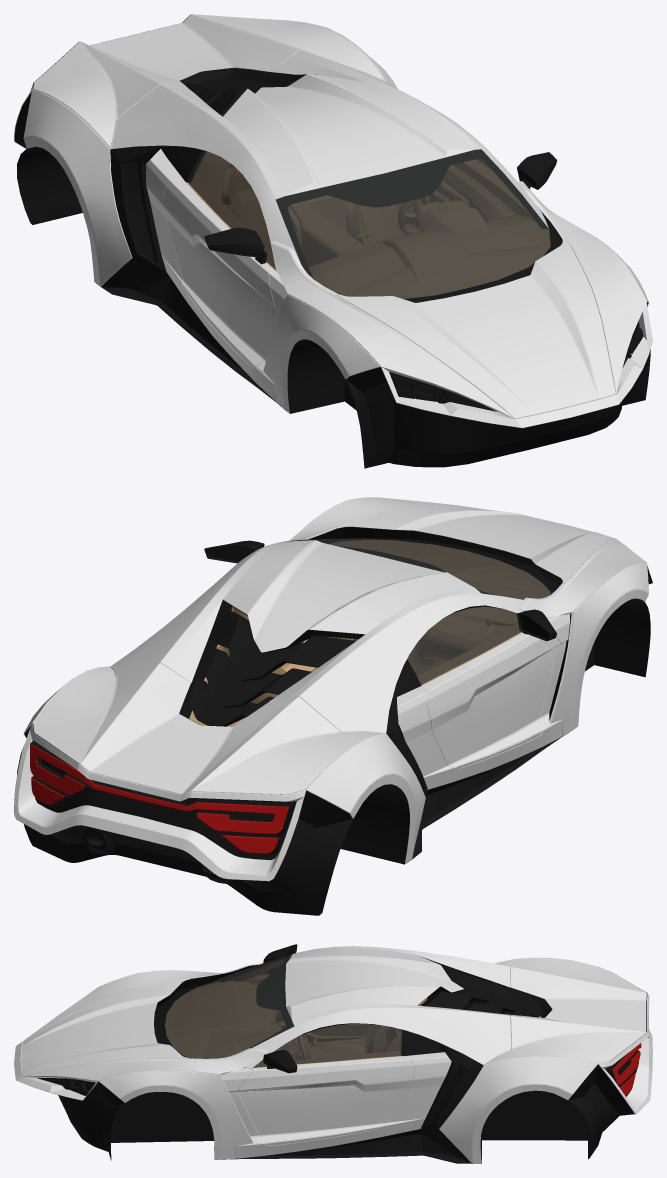
Rendered from DC4_Sport_1_Body.FBX.
The picture shows the model from 3 angles, top to bottom: view 1: azimuth 30°, elevation 25°; view 2: azimuth 150°, elevation 25°; view 3: azimuth 270°, elevation 25°; orthographic projection. The views are drawn at different scales.
Visible parts, largest first — view 1: DC4_Sport_1_Body, DC4_Sport_1_Roof, DC4_Sport_1_Glass_Tesselated_F, DC3_Sport_1_Glass_F, DC4_Sport_1_Hood, DC4_Sport_1_Trunk, DC4_Sport_1_Door_R, DC4_Sport_1_Mudguard_BR, DC4_Sport_1_Mudguard_FR, DC4_Sport_1_Door_L, DC4_Sport_1_Glass_R, DC4_Sport_1_Glass_Tesselated_R (+1 smaller); view 2: DC4_Sport_1_Body, DC4_Sport_1_Trunk, DC4_Sport_1_Roof, DC4_Sport_1_Door_R, DC4_Sport_1_Hood, DC4_Sport_1_Mudguard_BR, DC4_Sport_1_Glass_Tesselated_F, DC3_Sport_1_Glass_F, DC4_Sport_1_Mudguard_FR, DC4_Sport_1_Glass_R, DC4_Sport_1_Glass_Tesselated_R, DC4_Sport_1_Door_L; view 3: DC4_Sport_1_Body, DC4_Sport_1_Roof, DC4_Sport_1_Door_L, DC4_Sport_1_Trunk, DC4_Sport_1_Glass_Tesselated_F, DC3_Sport_1_Glass_F, DC4_Sport_1_Hood, DC4_Sport_1_Mudguard_BL, DC4_Sport_1_Mudguard_FL, DC4_Sport_1_Glass_L, DC4_Sport_1_Glass_Tesselated_L, DC4_Sport_1_Door_R (+1 smaller).
Boxes of the visible parts, x1,y1,x2,y2 form: DC4_Sport_1_Body: [14, 14, 652, 468]; DC4_Sport_1_Roof: [182, 71, 548, 277]; DC4_Sport_1_Glass_Tesselated_F: [276, 149, 550, 298]; DC3_Sport_1_Glass_F: [276, 149, 550, 298]; DC4_Sport_1_Hood: [335, 238, 615, 418]; DC4_Sport_1_Trunk: [33, 14, 384, 148]; DC4_Sport_1_Door_R: [164, 182, 278, 366]; DC4_Sport_1_Mudguard_BR: [23, 89, 132, 286]; DC4_Sport_1_Mudguard_FR: [264, 294, 380, 413]; DC4_Sport_1_Door_L: [423, 152, 557, 221]; DC4_Sport_1_Glass_R: [188, 151, 275, 269]; DC4_Sport_1_Glass_Tesselated_R: [188, 150, 275, 269]; DC4_Sport_1_Body: [14, 497, 652, 915]; DC4_Sport_1_Trunk: [33, 662, 384, 794]; DC4_Sport_1_Roof: [182, 540, 523, 665]; DC4_Sport_1_Door_R: [417, 609, 560, 767]; DC4_Sport_1_Hood: [335, 506, 615, 583]; DC4_Sport_1_Mudguard_BR: [306, 733, 425, 863]; DC4_Sport_1_Glass_Tesselated_F: [287, 538, 550, 599]; DC3_Sport_1_Glass_F: [281, 538, 550, 599]; DC4_Sport_1_Mudguard_FR: [551, 563, 648, 736]; DC4_Sport_1_Glass_R: [407, 606, 521, 684]; DC4_Sport_1_Glass_Tesselated_R: [407, 606, 520, 684]; DC4_Sport_1_Door_L: [204, 540, 264, 650]; DC4_Sport_1_Body: [14, 951, 652, 1163]; DC4_Sport_1_Roof: [221, 946, 463, 1068]; DC4_Sport_1_Door_L: [237, 1050, 414, 1145]; DC4_Sport_1_Trunk: [485, 957, 646, 1064]; DC4_Sport_1_Glass_Tesselated_F: [165, 954, 293, 1058]; DC3_Sport_1_Glass_F: [165, 954, 293, 1058]; DC4_Sport_1_Hood: [21, 978, 190, 1076]; DC4_Sport_1_Mudguard_BL: [439, 1056, 597, 1163]; DC4_Sport_1_Mudguard_FL: [99, 1070, 252, 1159]; DC4_Sport_1_Glass_L: [253, 1023, 402, 1067]; DC4_Sport_1_Glass_Tesselated_L: [254, 1024, 402, 1067]; DC4_Sport_1_Door_R: [248, 944, 368, 1046].
Bounding box in the file's own units: 255 × 134 × 556.
